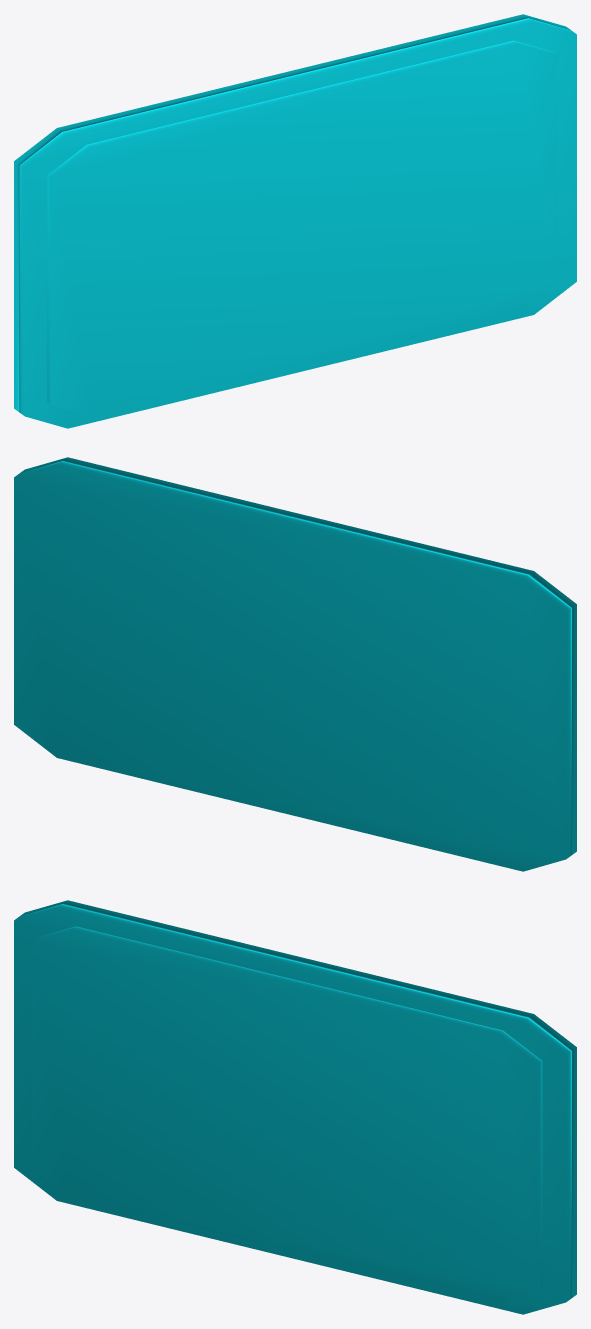
The model's file is mango.glb.
The picture shows the model from 3 angles, top to bottom: view 1: azimuth 30°, elevation 25°; view 2: azimuth 150°, elevation 25°; view 3: azimuth 330°, elevation 25°; orthographic projection.
Visible parts, largest first — view 1: Cube.002; view 2: Cube.002; view 3: Cube.002.
Boxes of the visible parts, x1,y1,x2,y2 form: Cube.002: (14, 14, 576, 428); Cube.002: (14, 457, 576, 871); Cube.002: (14, 900, 576, 1314).
Size of the model in its own units: 2.23 by 1.13 by 0.1083.
